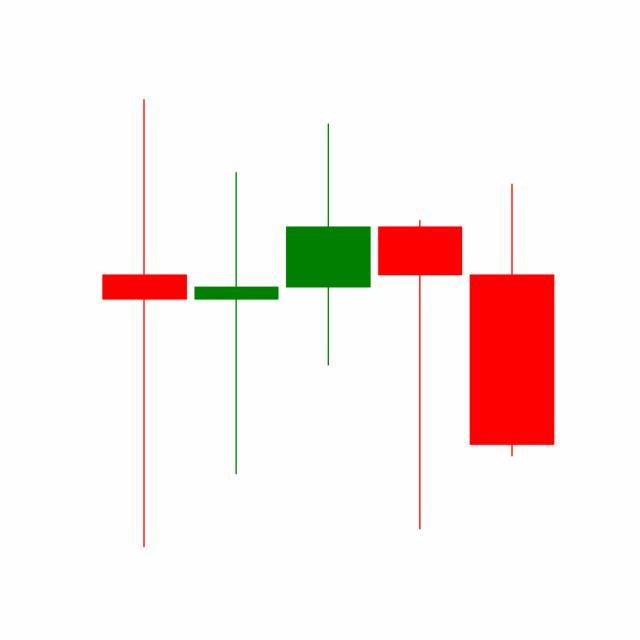Dragonfly Doji: (374, 218, 468, 534)
